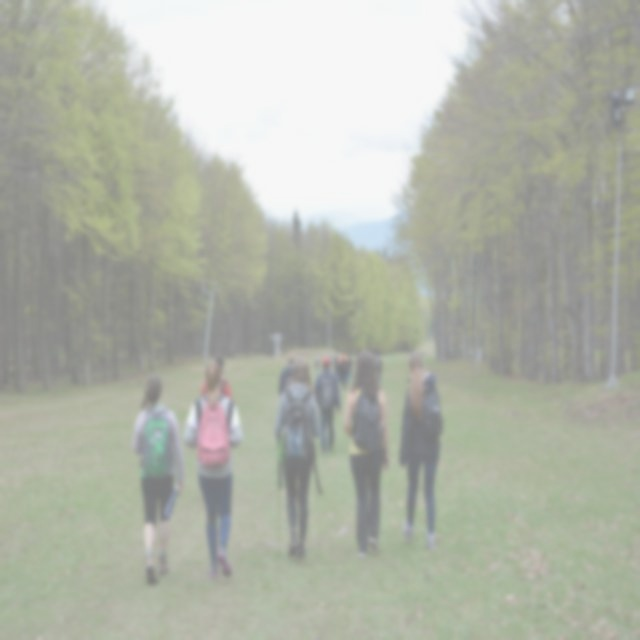pessoa: (181, 356, 245, 580), (130, 372, 187, 588), (341, 347, 392, 560), (272, 354, 324, 561), (398, 350, 446, 554), (312, 355, 342, 455), (198, 355, 234, 403), (278, 354, 296, 398), (338, 348, 350, 391), (371, 347, 381, 387), (375, 351, 383, 390), (346, 352, 354, 385), (332, 350, 340, 382), (326, 349, 334, 372), (354, 346, 362, 368), (314, 351, 321, 373), (421, 348, 424, 356)
